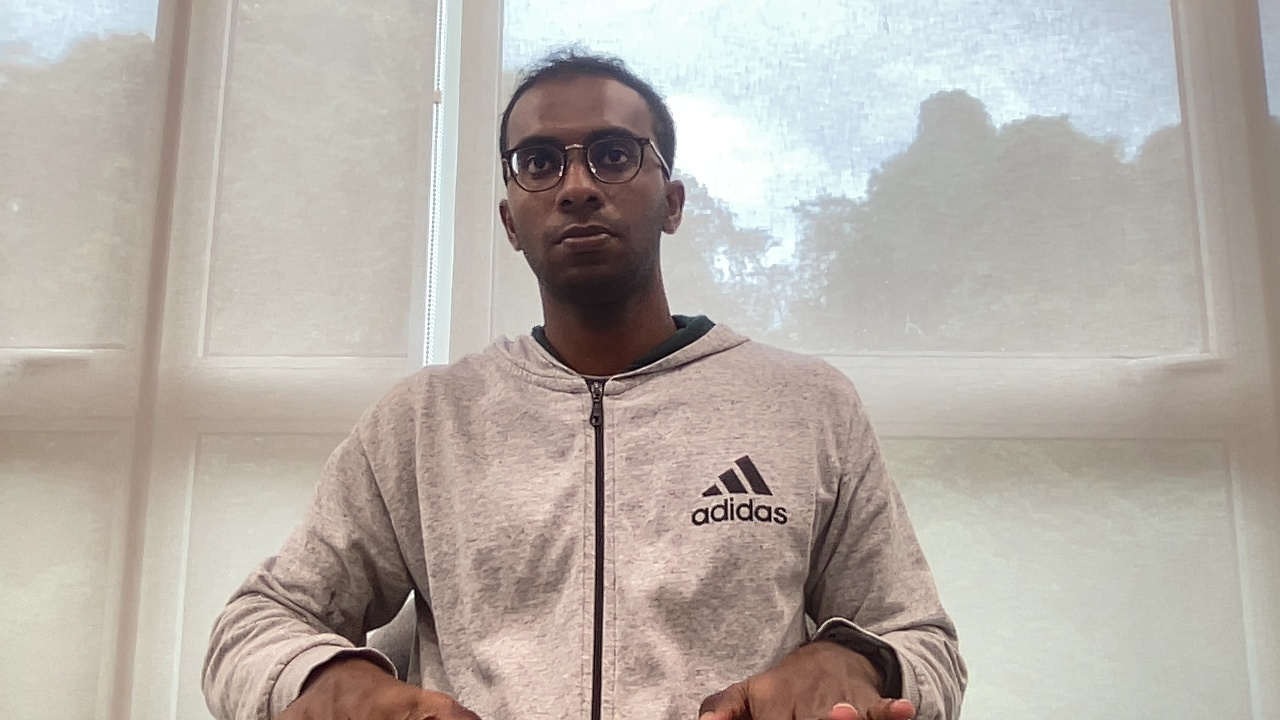finish: (271, 647, 931, 719)
